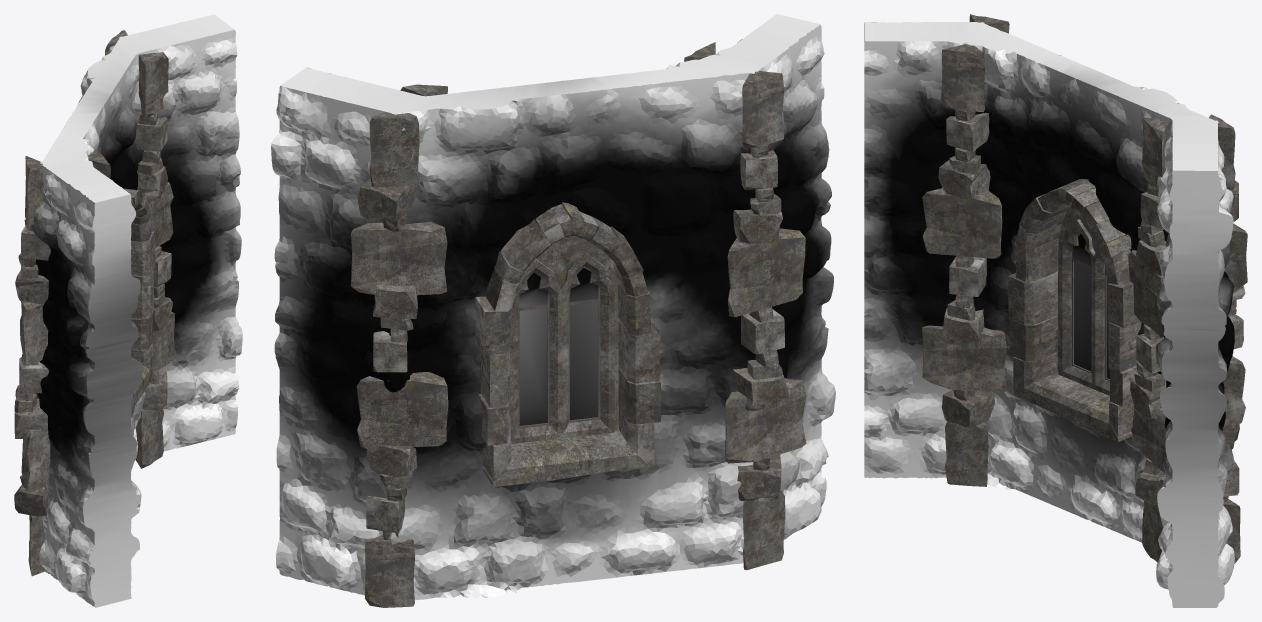
File: SM_CastleTower_Window_A_04.fbx
3 renders of one model, left to right at view 1: azimuth 30°, elevation 25°; view 2: azimuth 150°, elevation 25°; view 3: azimuth 270°, elevation 25°, orthographic. The views are drawn at different scales.
Parts seen in each view (by area): view 1: SM_CastleTower_Window_A_04_LOD0; view 2: SM_CastleTower_Window_A_04_LOD0; view 3: SM_CastleTower_Window_A_04_LOD0.
Boxes of the visible parts, box(x1,y1,x2,y2) form: SM_CastleTower_Window_A_04_LOD0: box(14, 14, 242, 607); SM_CastleTower_Window_A_04_LOD0: box(271, 14, 835, 607); SM_CastleTower_Window_A_04_LOD0: box(864, 14, 1247, 607).
Bounding box in the file's own units: 324 × 319 × 401.
